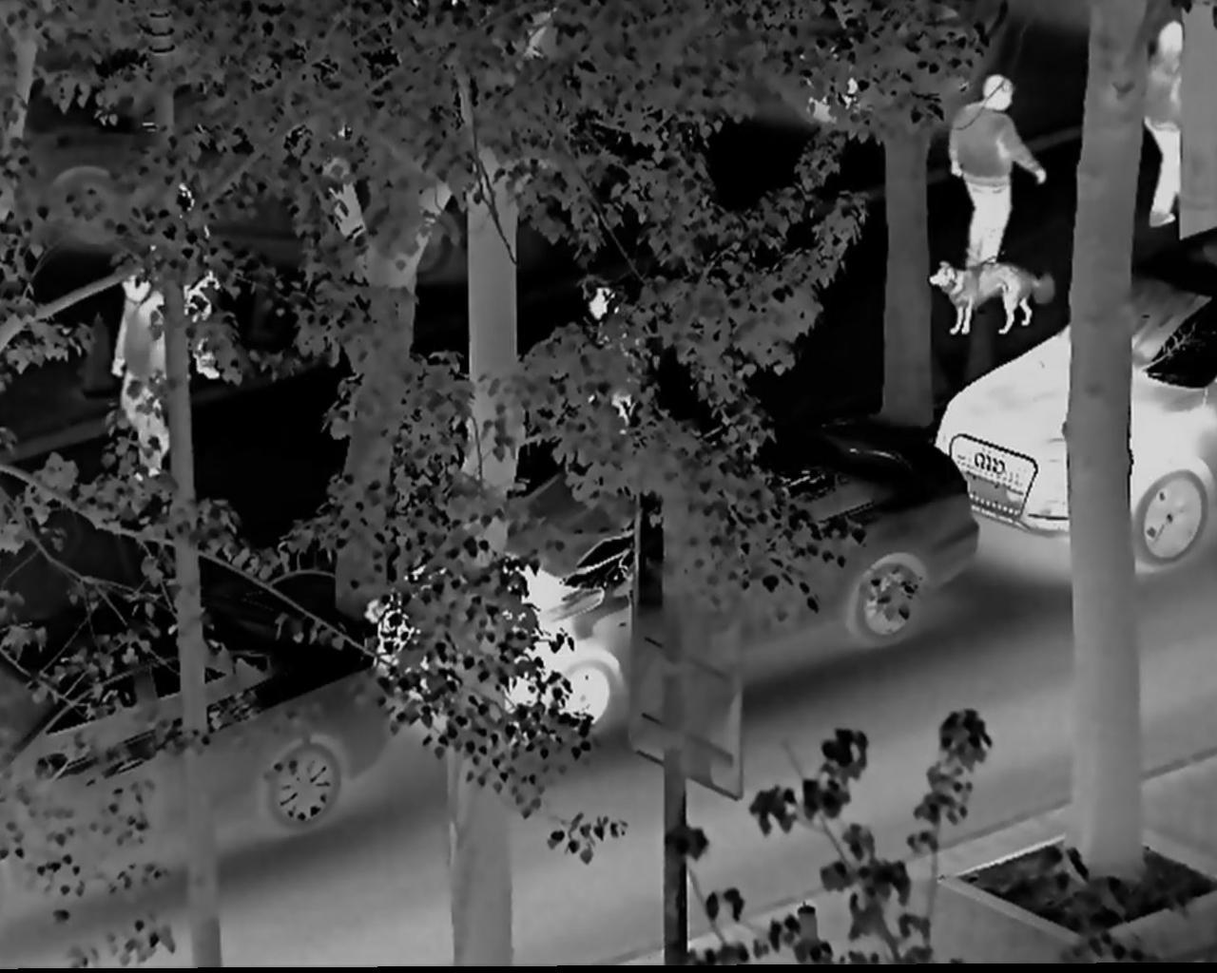person: (941, 67, 1047, 265), (144, 181, 226, 386), (106, 259, 175, 480), (1144, 11, 1191, 235)
